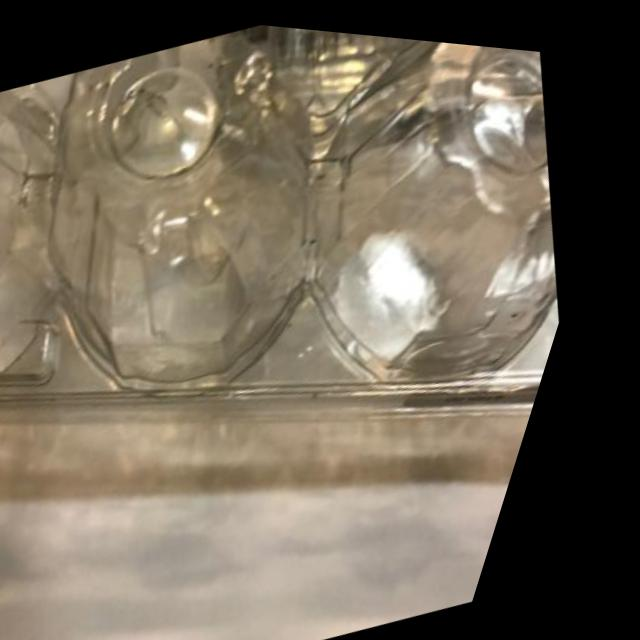plastic: (0, 0, 640, 604)
